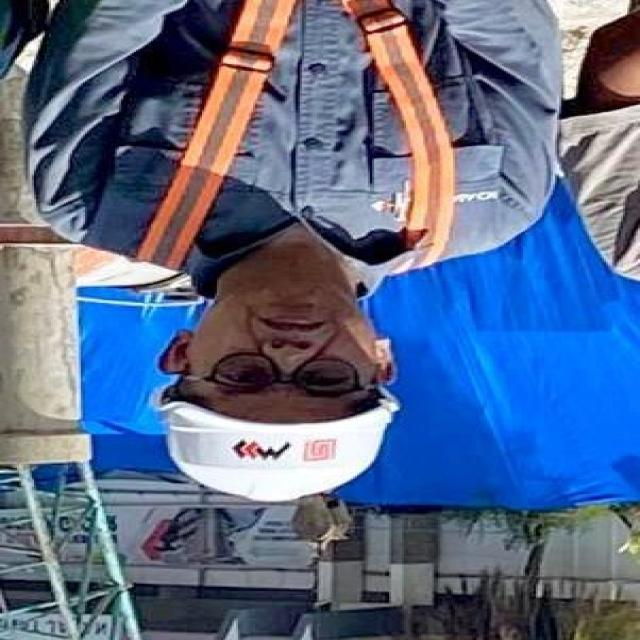safetyhelmet: (145, 345, 413, 515)
